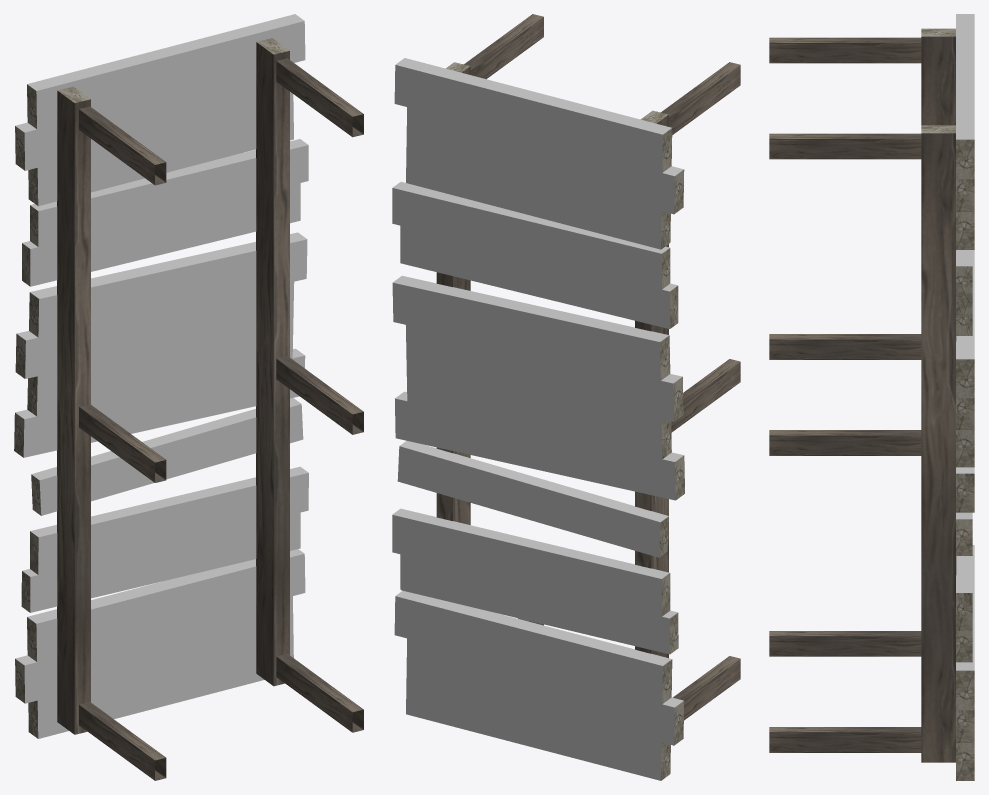
Rendered from Deck_B.fbx.
3 renders of one model, left to right at view 1: azimuth 30°, elevation 25°; view 2: azimuth 150°, elevation 25°; view 3: azimuth 270°, elevation 25°, orthographic.
Parts seen in each view (by area): view 1: Deck_B; view 2: Deck_B; view 3: Deck_B.
Boxes of the visible parts, <box> form: Deck_B: <box>14,14,363,780</box>; Deck_B: <box>392,14,740,780</box>; Deck_B: <box>769,14,974,780</box>.
Bounding box in the file's own units: 3.54 × 7.76 × 2.22.
